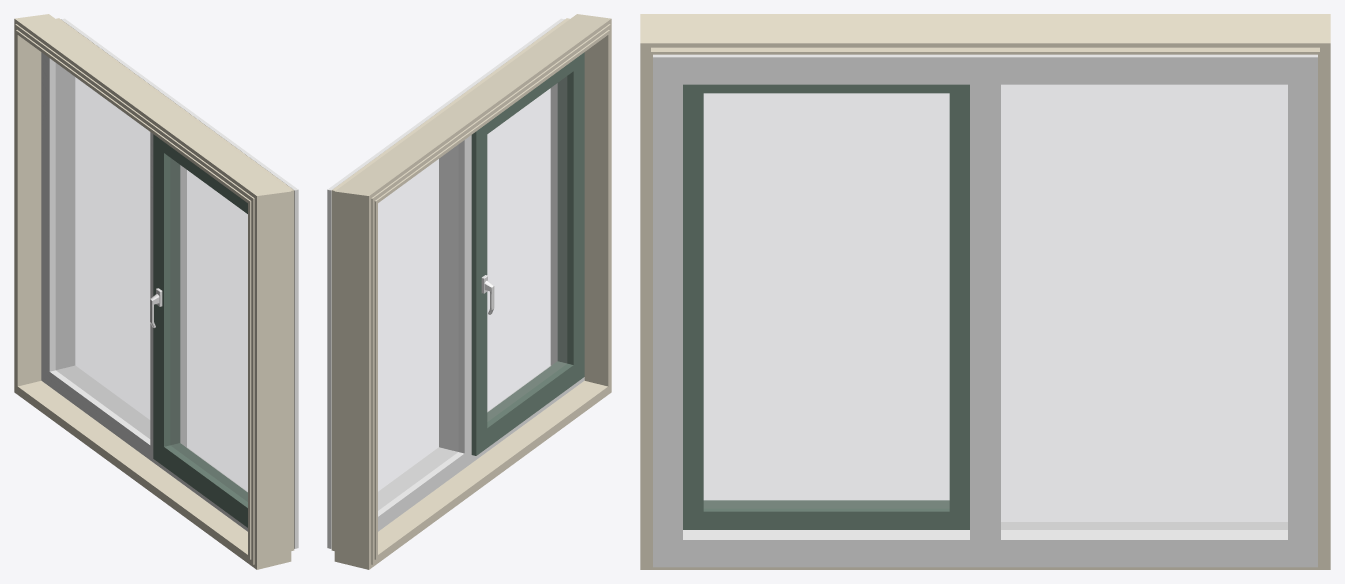
3 views of the same model, side by side, from view 1: azimuth 30°, elevation 25°; view 2: azimuth 150°, elevation 25°; view 3: azimuth 270°, elevation 25° (orthographic). The views are drawn at different scales.
Parts seen in each view (by area): view 1: [8703987]Merk B-001.sp, [8703988]DEL_Merk B; view 2: [8703987]Merk B-001.sp, [8703988]DEL_Merk B; view 3: [8703987]Merk B-001.sp, [8703988]DEL_Merk B.
Part boxes in pixels (x1,y1,x2,y2): [8703987]Merk B-001.sp: [41, 18, 298, 548]; [8703988]DEL_Merk B: [14, 14, 294, 569]; [8703987]Merk B-001.sp: [327, 18, 584, 548]; [8703988]DEL_Merk B: [331, 14, 611, 569]; [8703987]Merk B-001.sp: [653, 54, 1317, 567]; [8703988]DEL_Merk B: [640, 14, 1330, 569].
Bounding box in the file's own units: 0.212 × 1.55 × 1.82.
